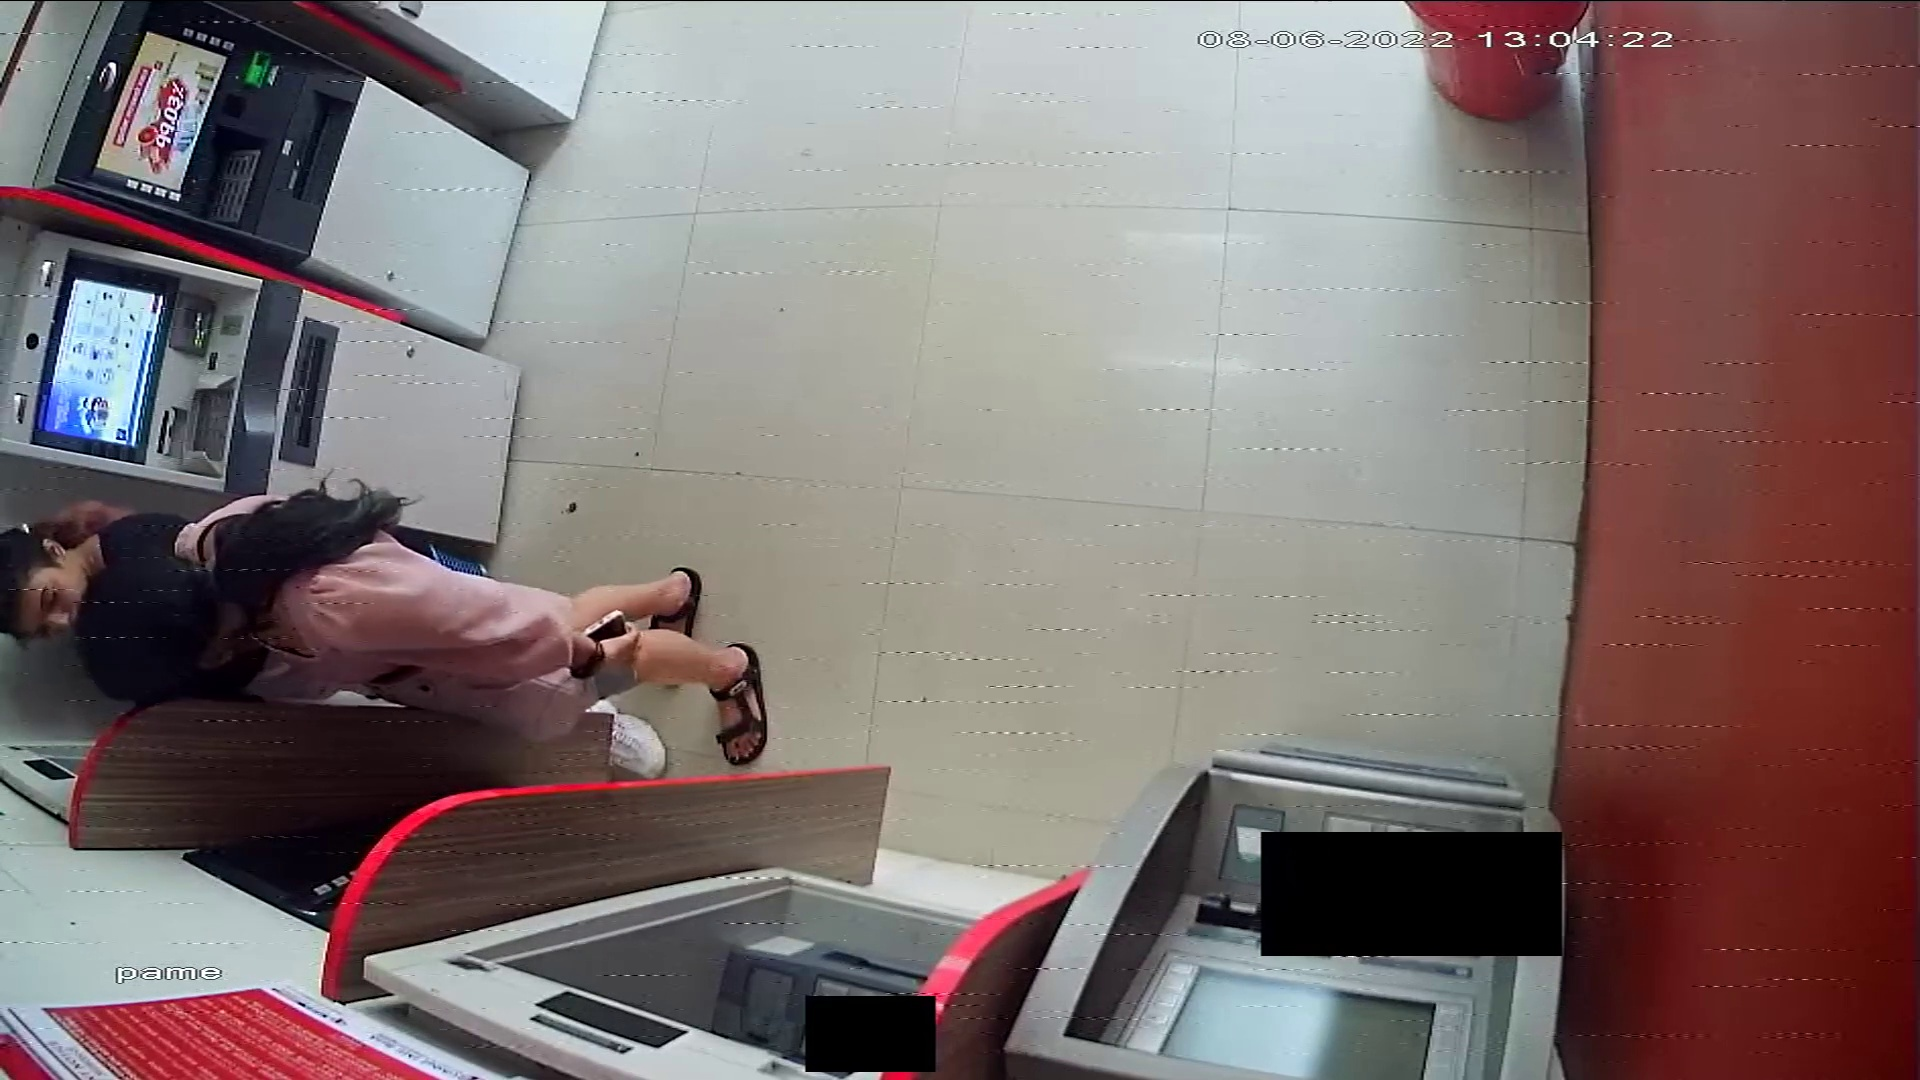person: (78, 495, 773, 766), (1, 504, 102, 649)
phone: (586, 611, 637, 698)
